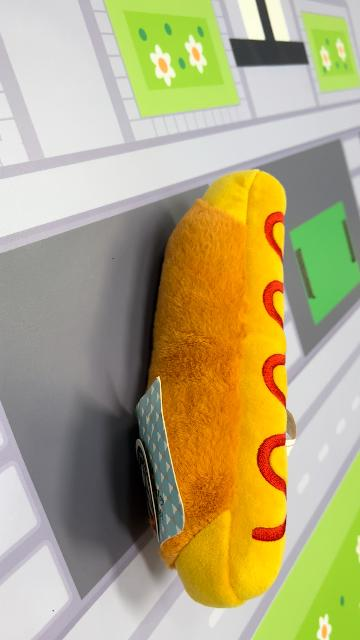hotdog: (135, 168, 291, 610)
